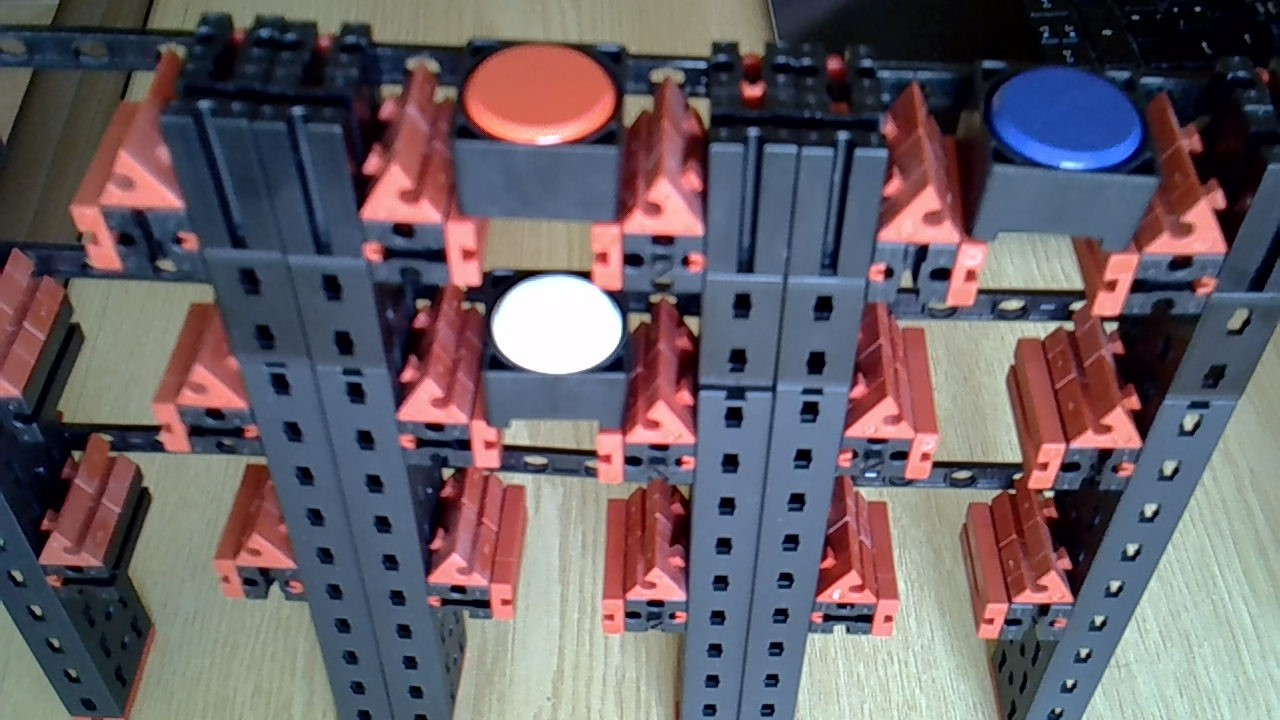Behaelter: (959, 70, 1153, 247), (453, 50, 625, 224), (484, 272, 632, 429)
WerkStueck: (988, 58, 1144, 169), (462, 42, 617, 147), (488, 277, 623, 372)
